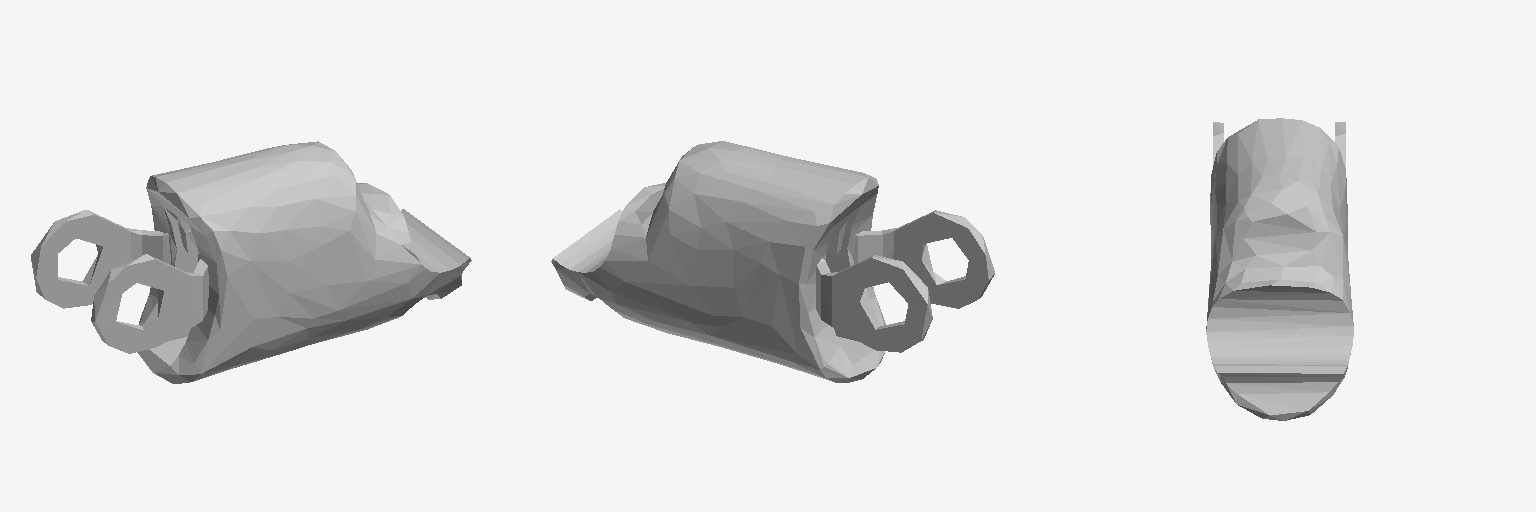
File: idx-F1.obj
3 views of the same model, side by side, from view 1: azimuth 30°, elevation 25°; view 2: azimuth 150°, elevation 25°; view 3: azimuth 270°, elevation 25° (orthographic).
Parts seen in each view (by area): view 1: off; view 2: off; view 3: off.
Boxes of the visible parts, box(x1,y1,x2,y2) form: off: box(31, 141, 471, 383); off: box(551, 141, 994, 382); off: box(1206, 118, 1353, 420).
Size of the model in its own units: 0.0486 by 0.023 by 0.016.